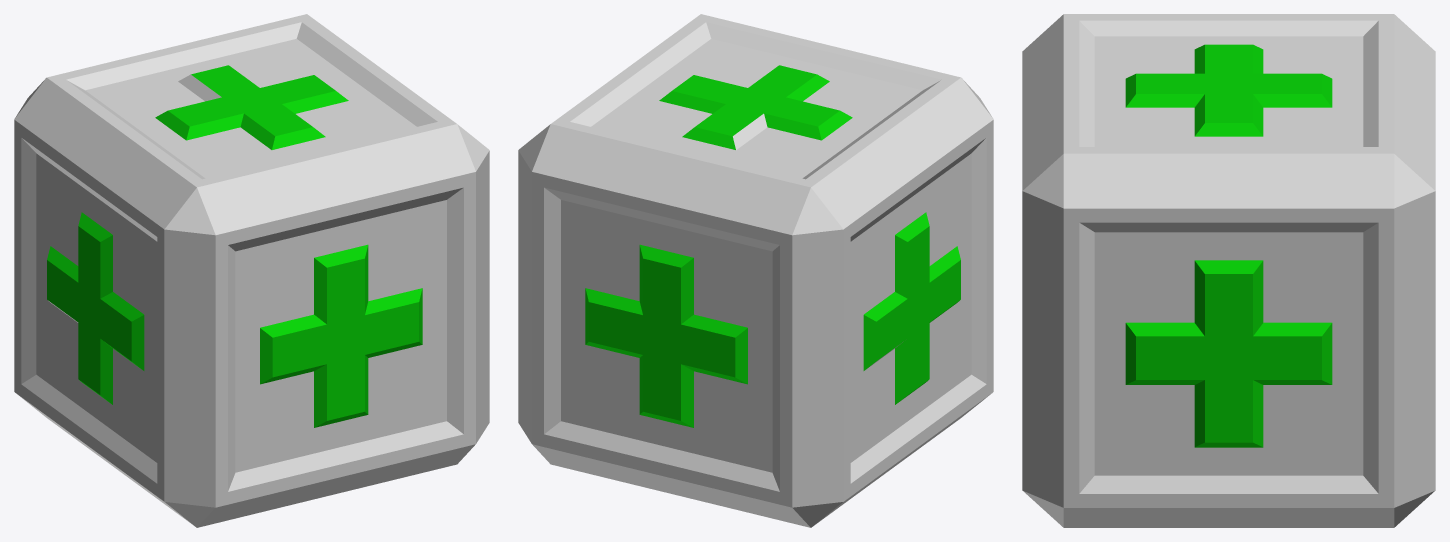
File: health.fbx
3 views of the same model, side by side, from view 1: azimuth 30°, elevation 25°; view 2: azimuth 150°, elevation 25°; view 3: azimuth 270°, elevation 25° (orthographic). The views are drawn at different scales.
Parts seen in each view (by area): view 1: Cube; view 2: Cube; view 3: Cube.
Boxes of the visible parts, x1,y1,x2,y2 form: Cube: (14, 14, 489, 527); Cube: (518, 14, 993, 527); Cube: (1022, 14, 1435, 527).
Size of the model in its own units: 200 by 200 by 200.
